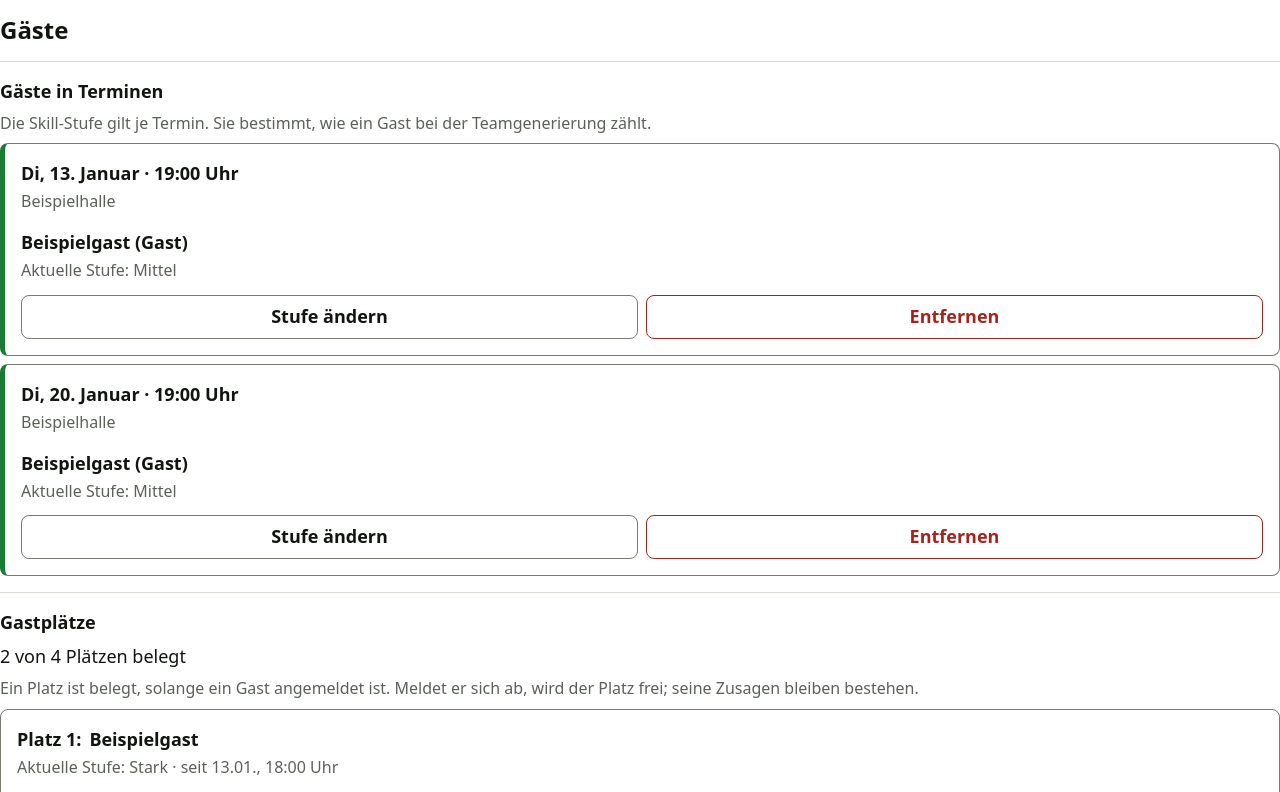
Test: Gäste in Terminen – Speichern › 404: Der Gast hat zurückgezogen – der Dialog zeigt den Text des Servers, die Zeile verschwindet
Click the button "Stufe ändern" below "Di, 13. Januar" at {"x": 330, "y": 317}, box left=21, top=295, right=638, bottom=339
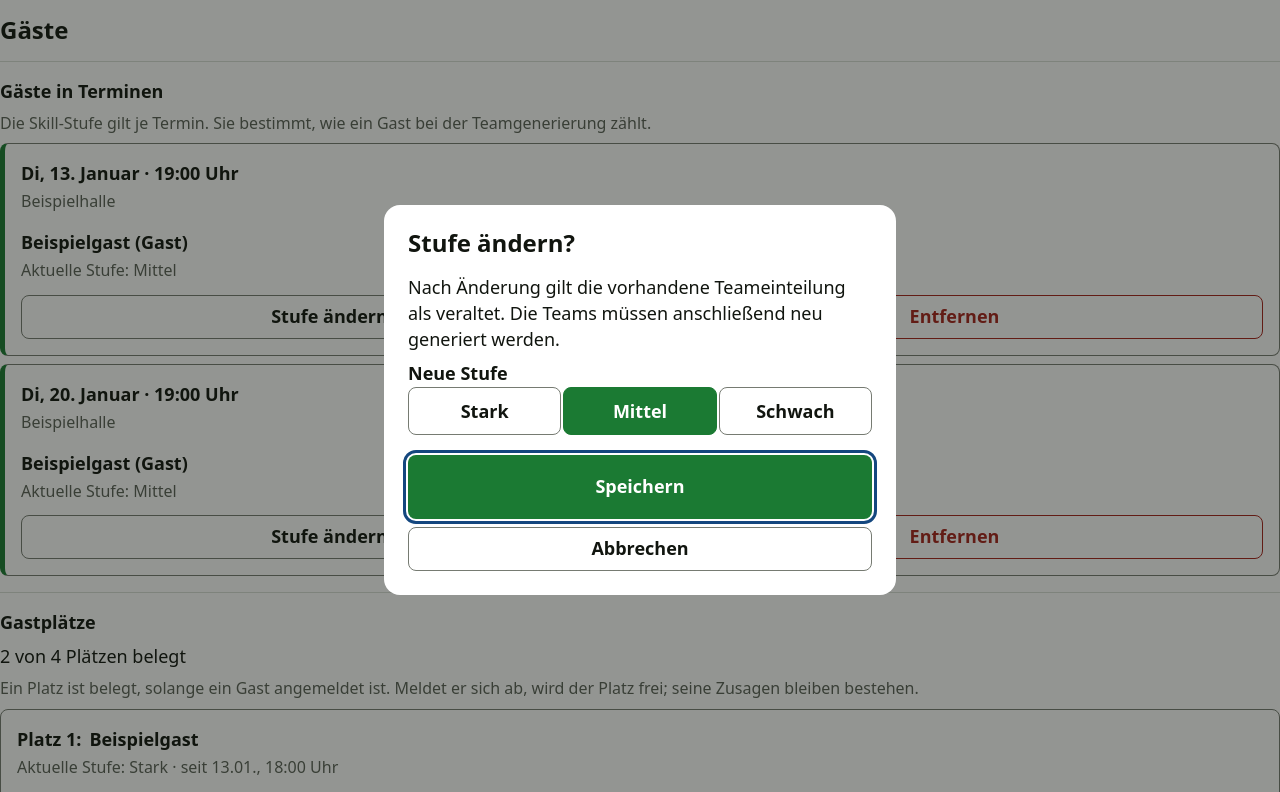
Now the radio button with test id "admin-gast-stufe-wahl-MITTEL" is checked, box left=562, top=387, right=718, bottom=435
Click the radio button with test id "admin-gast-stufe-wahl-SCHWACH" at {"x": 795, "y": 411}, box left=718, top=387, right=873, bottom=435
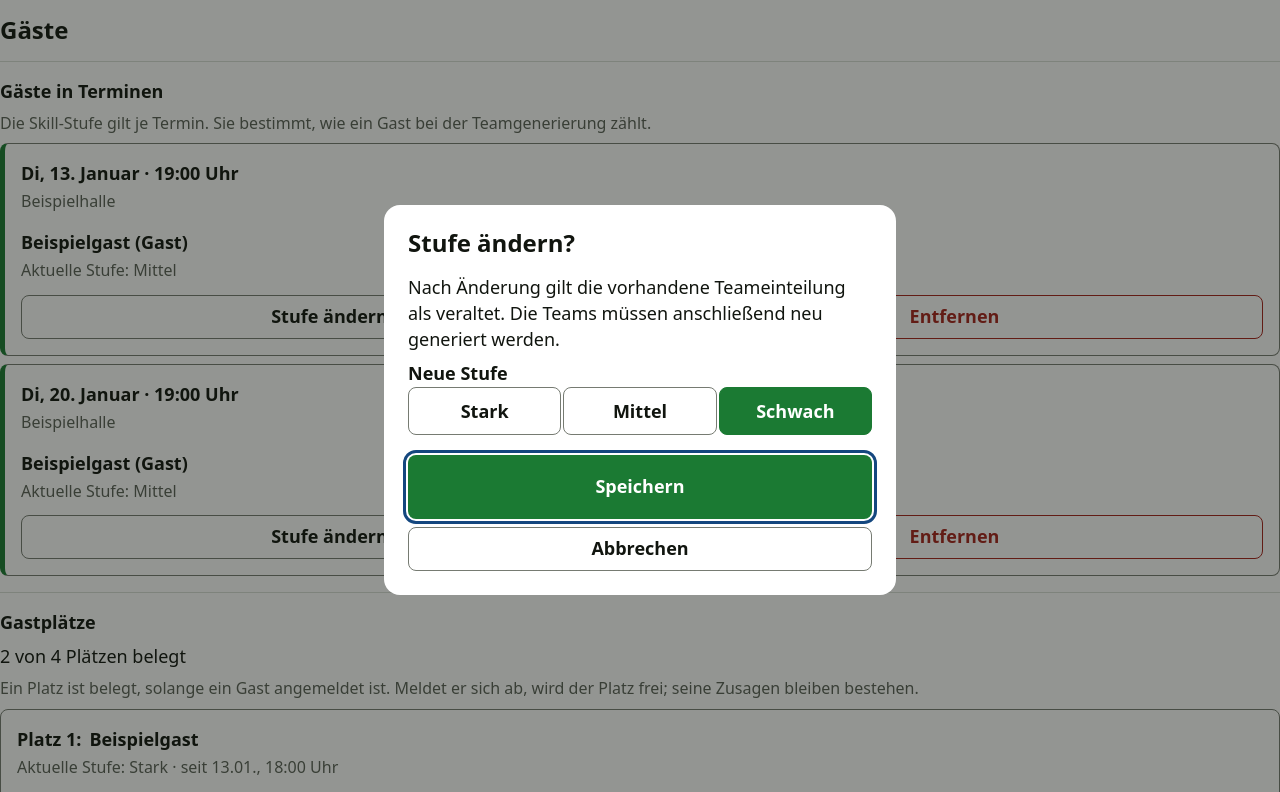
Click the button with test id "admin-gast-stufe-dialog-bestaetigen" at {"x": 640, "y": 487}, box left=408, top=455, right=872, bottom=519
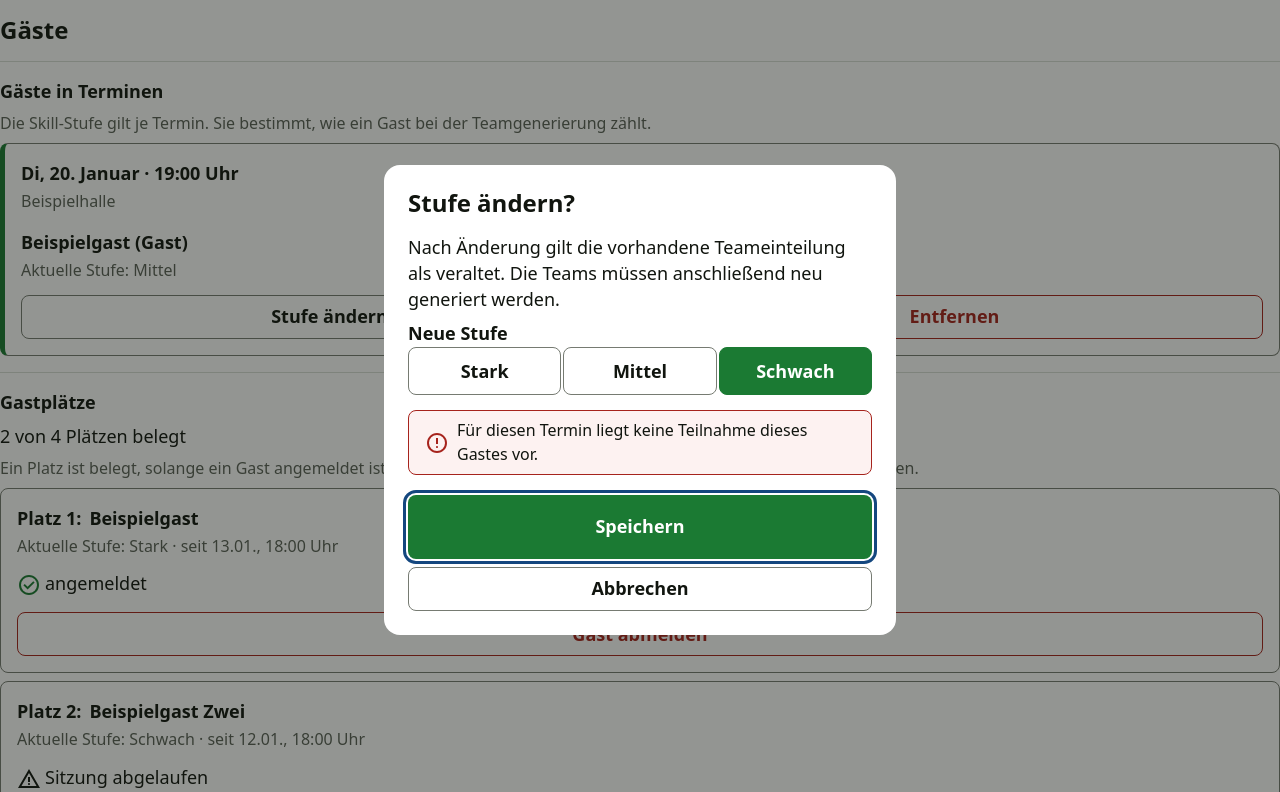
Expected: the list item with test id "admin-gaeste-termin-102" is shown, left=0, top=143, right=1279, bottom=356
Now the message with test id "admin-gast-stufe-dialog-fehler" shows "keine Teilnahme dieses Gastes vor", box left=457, top=419, right=807, bottom=465
Now the heading with test id "admin-gaeste-termin-101" is gone
